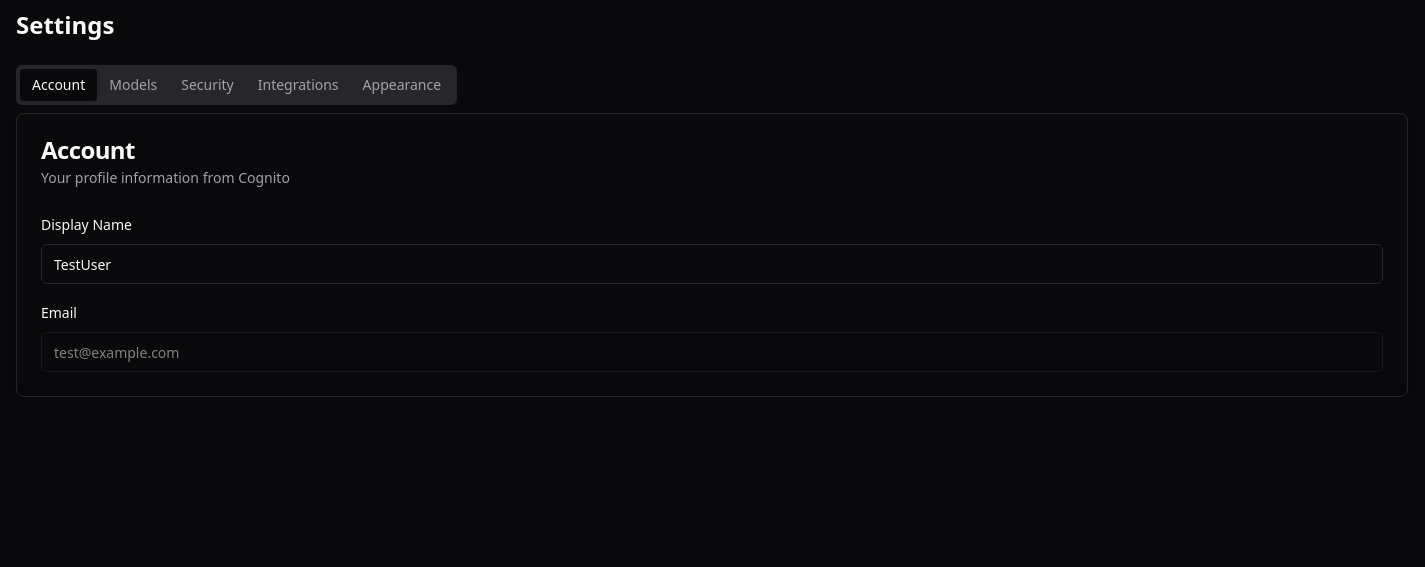
Scenario: SettingsPage › Security tab shows password change form
The width and height of the screenshot is (1425, 567).
Click the tab "Security".
click(207, 85)  # box [169,69,246,101]
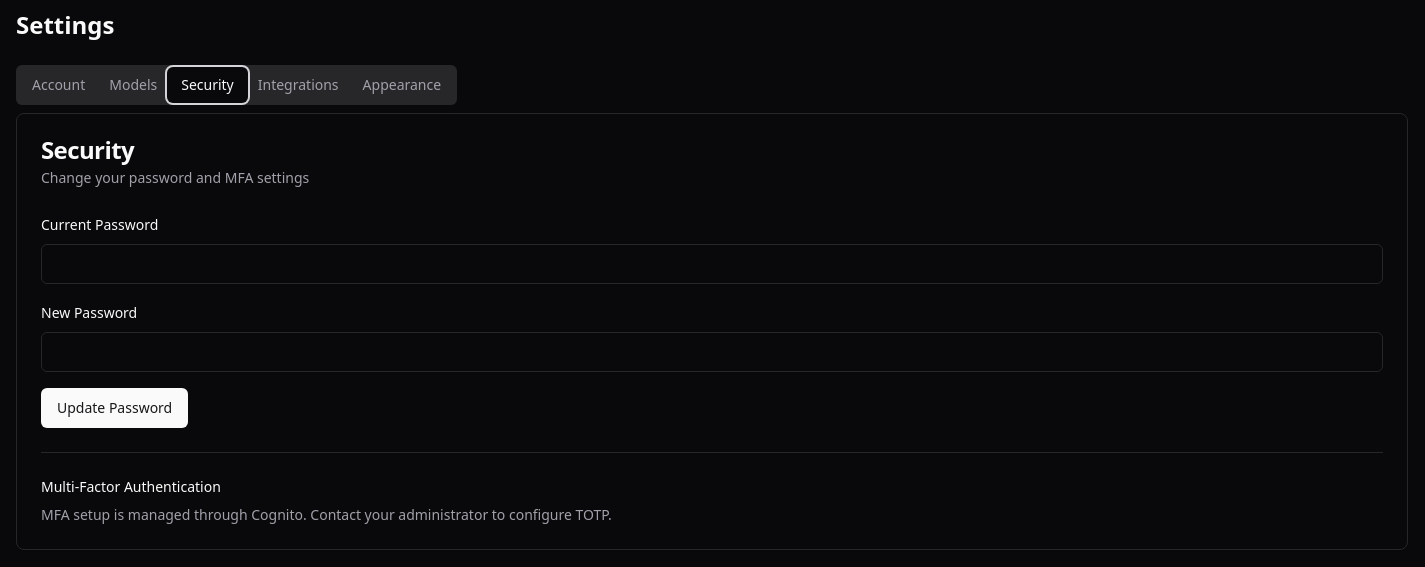
Expected: the password field labelled "Current Password" is shown, [41,244,1383,284]
Expected: the password field labelled "New Password" is shown, [41,332,1383,372]
Expected: the button "Update Password" is shown, [41,388,188,428]
